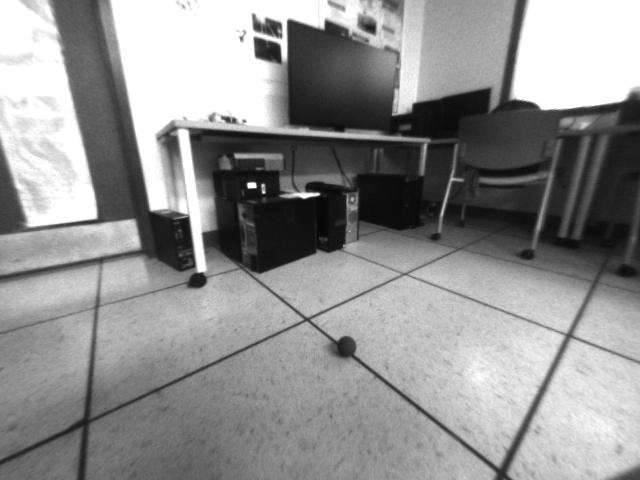dogtoy: (331, 329, 361, 362)
